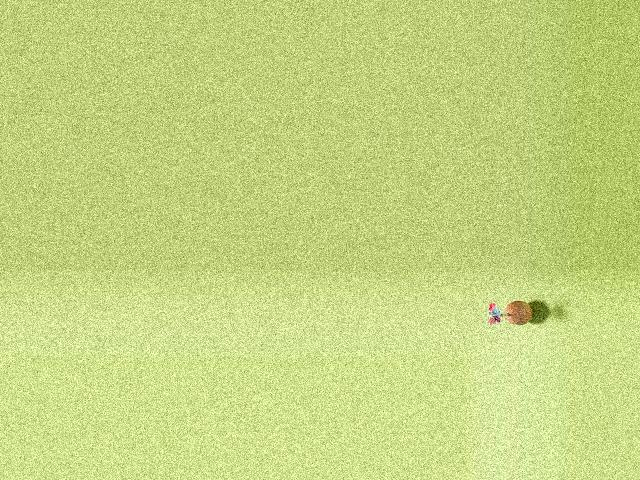egg: (504, 301, 532, 325)
